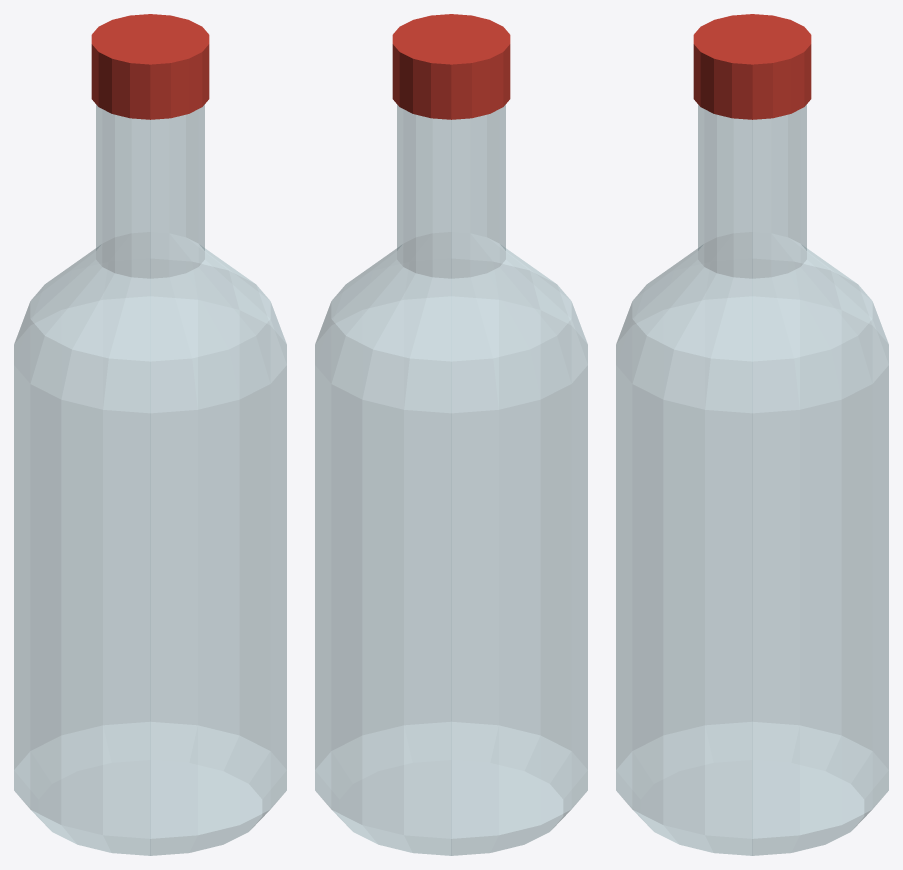
The model's file is bottle.glb.
The picture shows the model from 3 angles, left to right: view 1: azimuth 30°, elevation 25°; view 2: azimuth 150°, elevation 25°; view 3: azimuth 270°, elevation 25°; orthographic projection.
Parts seen in each view (by area): view 1: ForgeCore item; view 2: ForgeCore item; view 3: ForgeCore item.
Boxes of the visible parts, x1,y1,x2,y2 form: ForgeCore item: (14, 14, 286, 855); ForgeCore item: (315, 14, 587, 855); ForgeCore item: (616, 14, 888, 855).
Bounding box in the file's own units: 0.25 × 0.765 × 0.2462.
